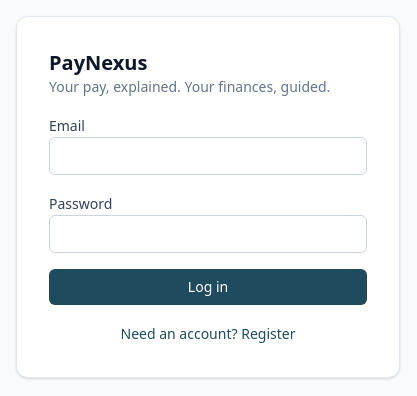
Test: AuthScreen › defaults to login mode and toggles to register
Expected: the button "Log in" is shown, 49,269 -> 367,305
Click the button "Need an account? Register" at point(208, 334), box 49,324 -> 367,344
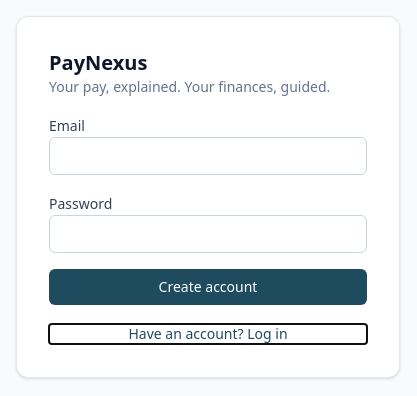
Expected: the button "Create account" is shown, 49,269 -> 367,305
Expected: the button "Have an account? Log in" is shown, 49,324 -> 367,344
